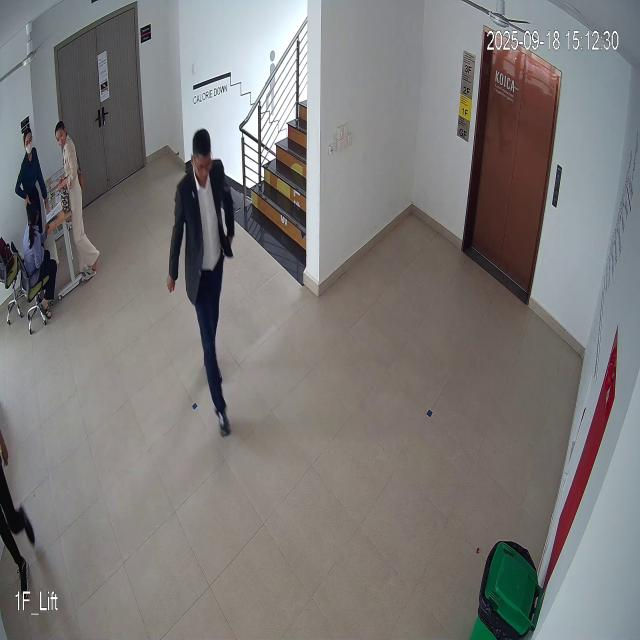face: (190, 128, 218, 192)
